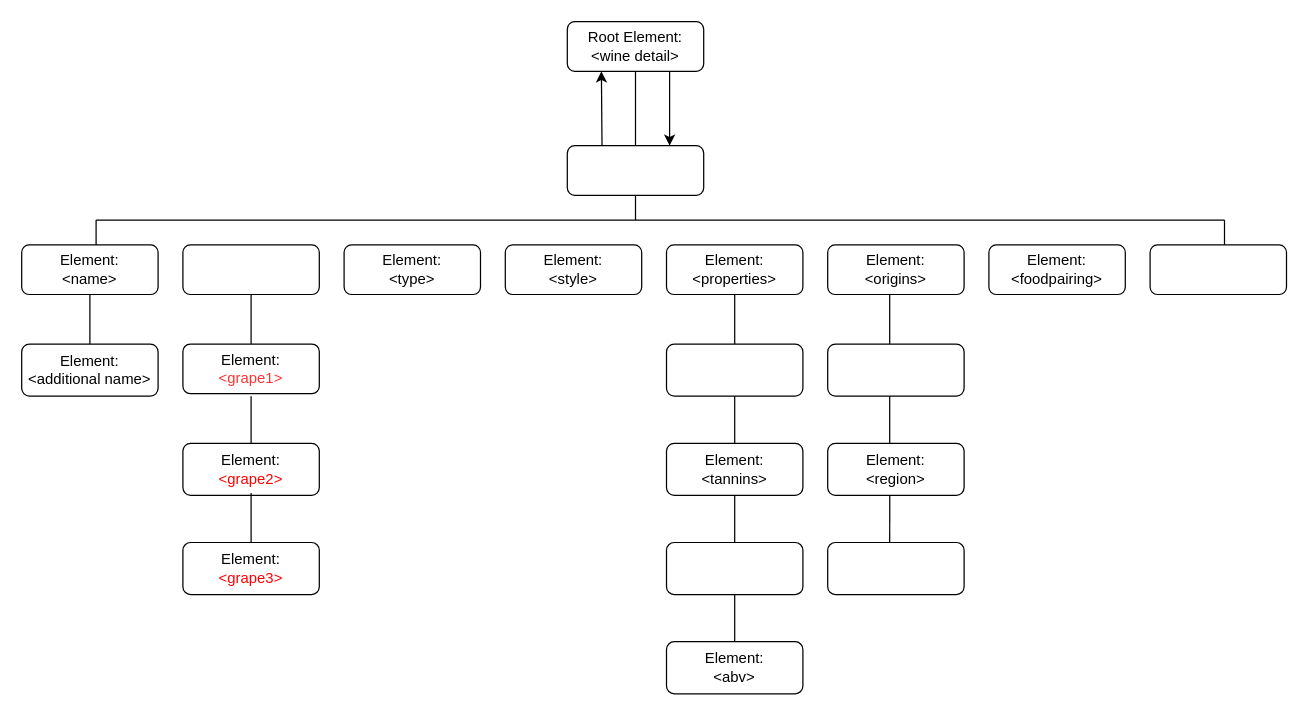
Some shapes in this 1308 by 715 pixel diagram are drawn without their labels. Here are the shapes that lost their labels. From the top down, the centre of each, then its label:
(635,169): Element: <wine>
(250,269): Element: <grape>
(1217,269): Element: <tastingnotes>
(734,369): Element: <residualsugar>
(895,369): Element: <country>
(734,568): Element: <acidity>
(895,568): Element: <subregion>
